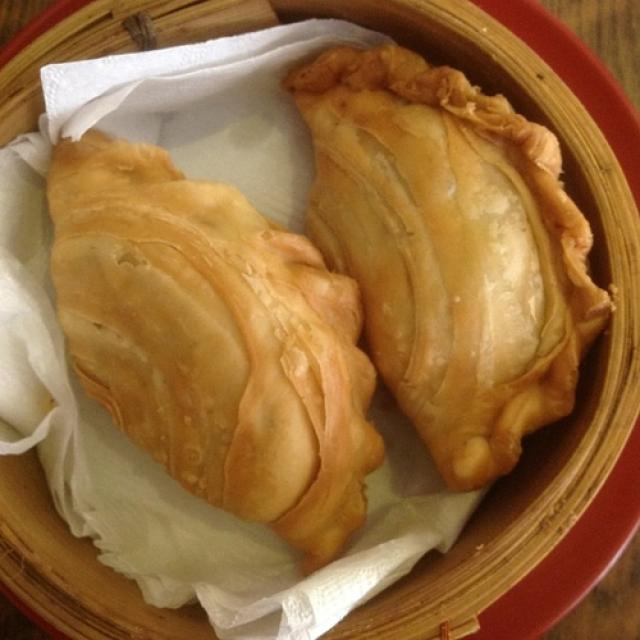炸货点心: (19, 40, 609, 586)
